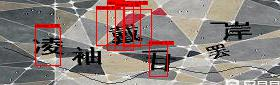chinese: (108, 21, 140, 48), (148, 49, 179, 76), (225, 20, 254, 46), (74, 44, 104, 67), (33, 35, 62, 57), (201, 39, 229, 60)
